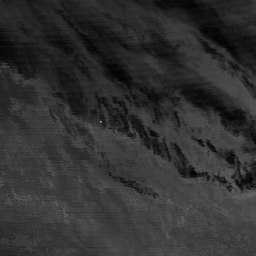Target: (97, 119, 103, 123)
